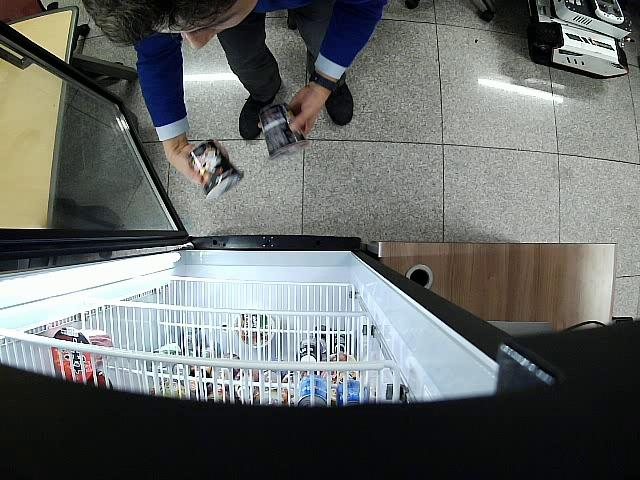00_hand: (163, 142, 229, 185), (287, 82, 331, 138)
08_buldak_S: (189, 138, 245, 199), (259, 103, 309, 159)
